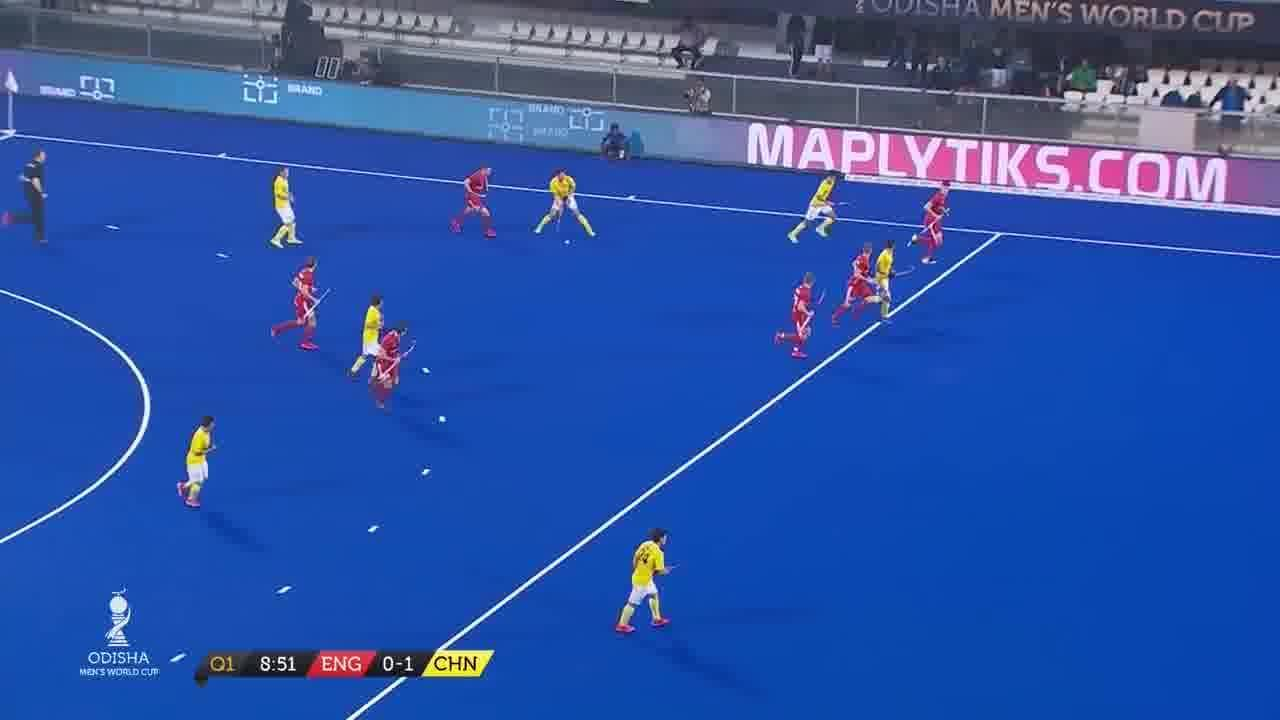ball: (565, 240, 572, 246)
